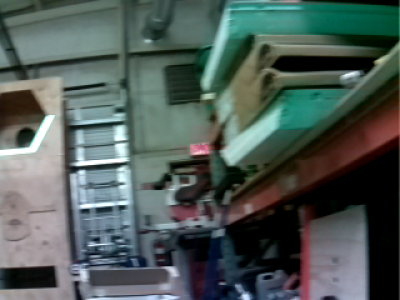target: (1, 114, 55, 155)
